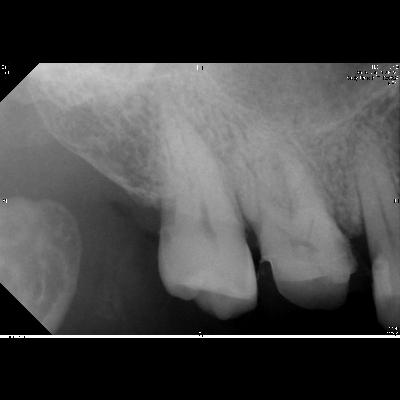tooth: (157, 89, 259, 321)
